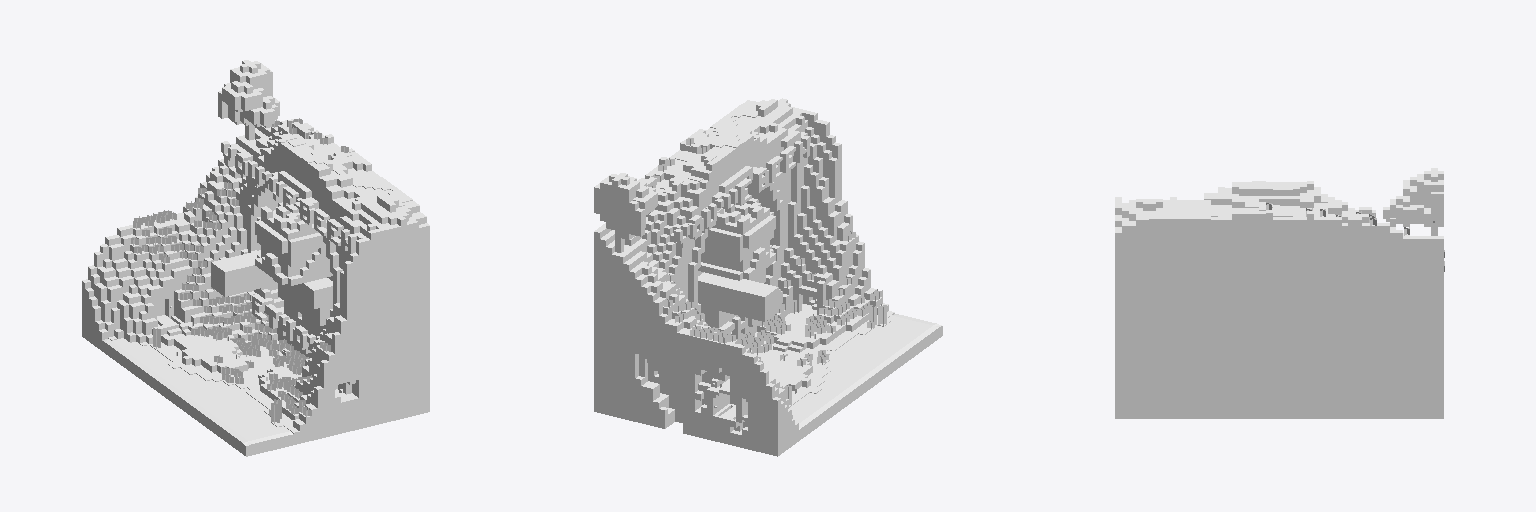
Rendered from ethodd.obj.
3 renders of one model, left to right at view 1: azimuth 30°, elevation 25°; view 2: azimuth 150°, elevation 25°; view 3: azimuth 270°, elevation 25°, orthographic.
Parts seen in each view (by area): view 1: Etho's_LP_Ep550__-142_61_329_to_-112_98_376; view 2: Etho's_LP_Ep550__-142_61_329_to_-112_98_376; view 3: Etho's_LP_Ep550__-142_61_329_to_-112_98_376.
Boxes of the visible parts, box(x1,y1,x2,y2) form: Etho's_LP_Ep550__-142_61_329_to_-112_98_376: box(82, 60, 429, 456); Etho's_LP_Ep550__-142_61_329_to_-112_98_376: box(594, 98, 942, 456); Etho's_LP_Ep550__-142_61_329_to_-112_98_376: box(1115, 168, 1444, 418).
Bounding box in the file's own units: 31.02 × 38 × 48.19.